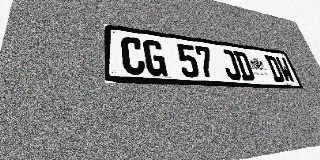5: (176, 43, 201, 78)
7: (193, 46, 217, 79)
C: (120, 36, 146, 75)
D: (233, 51, 256, 81), (264, 55, 286, 82)
G: (142, 39, 168, 76)
J: (219, 49, 242, 80)
W: (275, 56, 296, 83)
